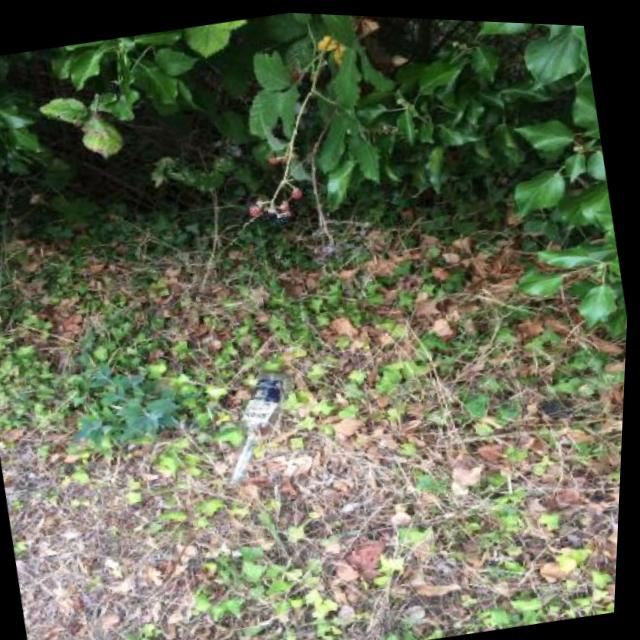glass: (206, 363, 315, 492)
